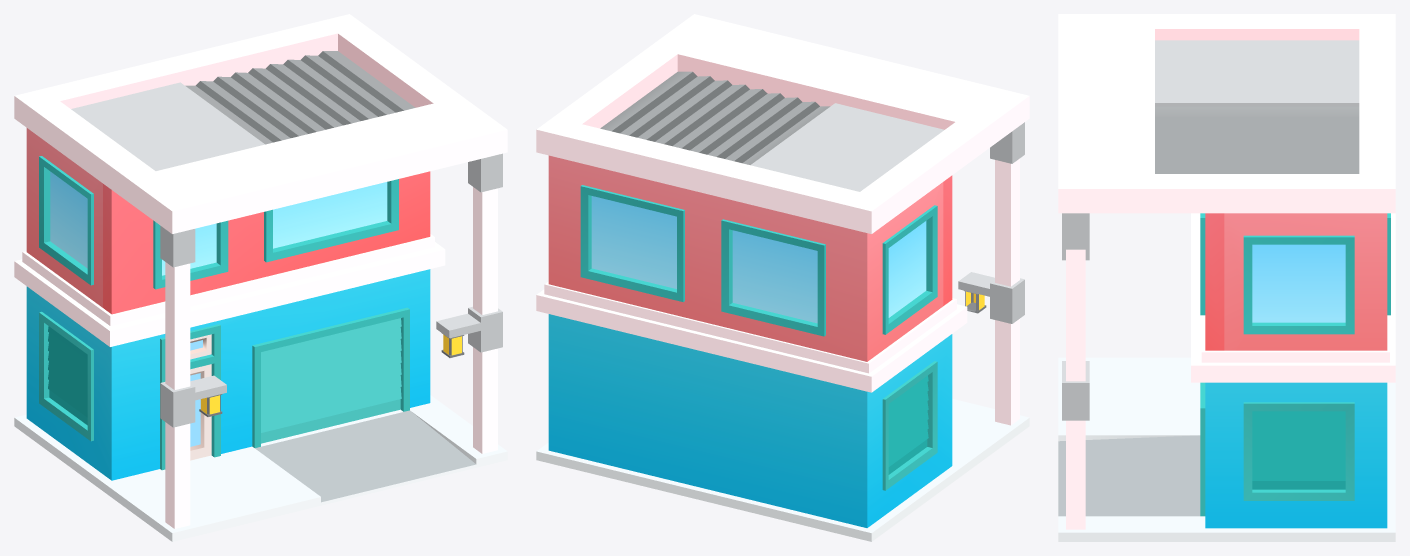
The model's file is Building_Living_15.glb.
3 views of the same model, side by side, from view 1: azimuth 30°, elevation 25°; view 2: azimuth 150°, elevation 25°; view 3: azimuth 270°, elevation 25° (orthographic). The views are drawn at different scales.
Parts seen in each view (by area): view 1: Building_Living_15; view 2: Building_Living_15; view 3: Building_Living_15.
Part boxes in pixels (box(x1,y1,x2,y2)): Building_Living_15: box(14, 14, 507, 541); Building_Living_15: box(536, 14, 1029, 541); Building_Living_15: box(1058, 14, 1395, 541).
Bounding box in the file's own units: 8.03 × 7.56 × 6.55.
1 material, 1 textured.
